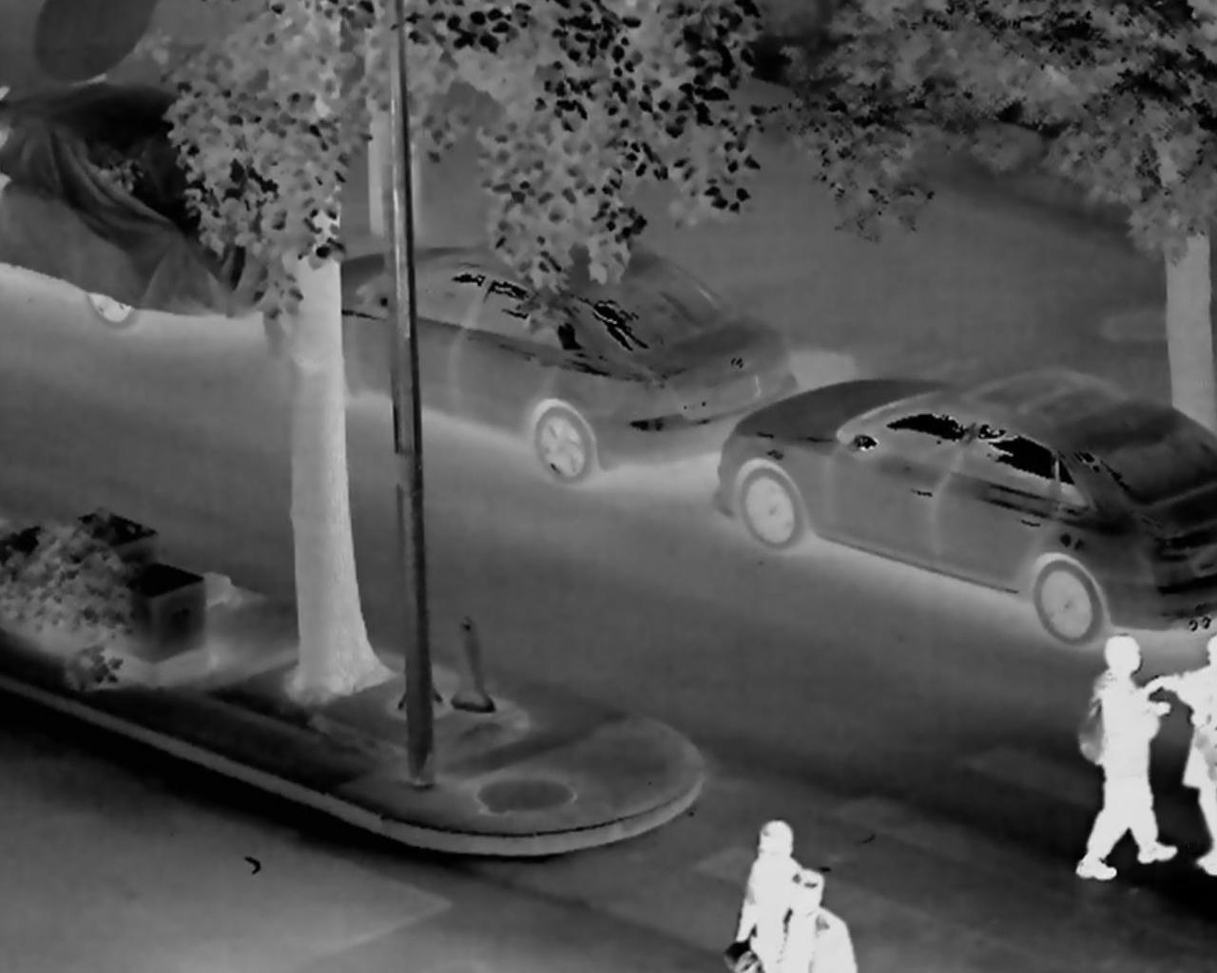person: (1074, 627, 1183, 897), (1175, 632, 1217, 904), (728, 815, 792, 973), (786, 865, 861, 973)
